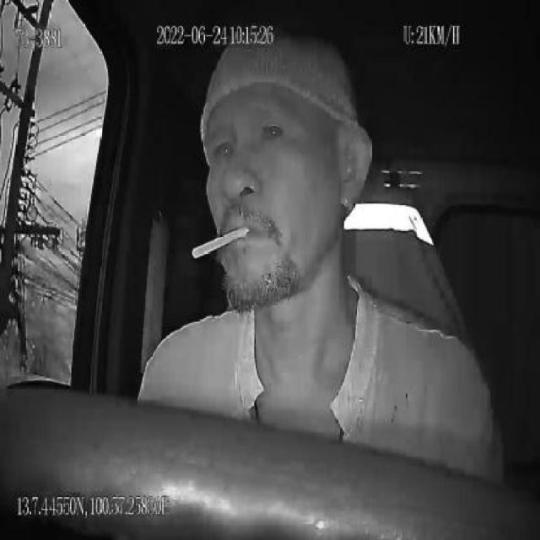smoking: (189, 222, 251, 257)
